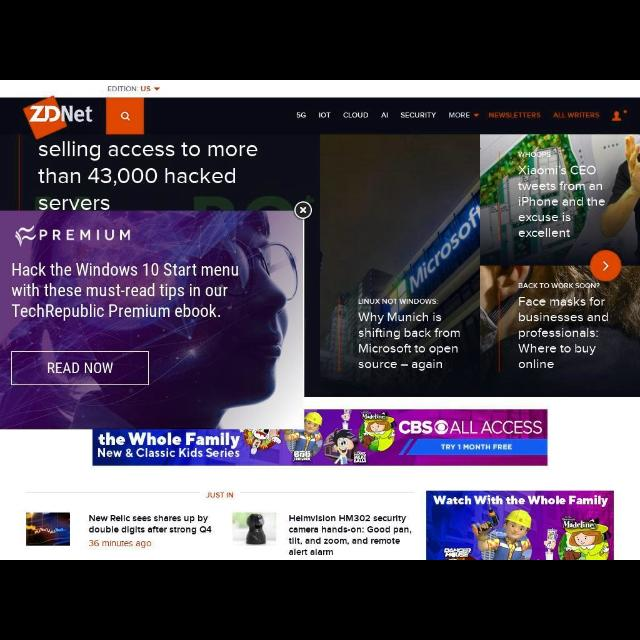backgroundimage: (320, 136, 480, 390), (482, 135, 638, 267), (482, 266, 636, 396)
button: (105, 96, 145, 136), (590, 250, 624, 282), (610, 110, 630, 122), (295, 205, 313, 218)
icon: (120, 112, 132, 122), (298, 205, 308, 215), (601, 262, 609, 270), (155, 85, 161, 92)
iframe: (2, 210, 306, 428), (92, 410, 548, 464), (426, 492, 612, 560)
image: (22, 96, 98, 140), (26, 510, 74, 546), (234, 511, 276, 547)
spinner: (151, 84, 161, 95), (470, 110, 480, 118)
text: (37, 144, 261, 210), (520, 164, 608, 242), (518, 298, 606, 372), (360, 311, 460, 371), (288, 512, 412, 558), (89, 514, 211, 532), (518, 280, 600, 292), (358, 296, 438, 308), (89, 538, 153, 548), (488, 110, 542, 120), (107, 84, 151, 95), (518, 148, 550, 158), (552, 112, 600, 118), (400, 112, 436, 118), (208, 490, 234, 498), (448, 110, 470, 118), (343, 112, 369, 118), (381, 111, 389, 119), (296, 112, 306, 118), (320, 112, 330, 118)
